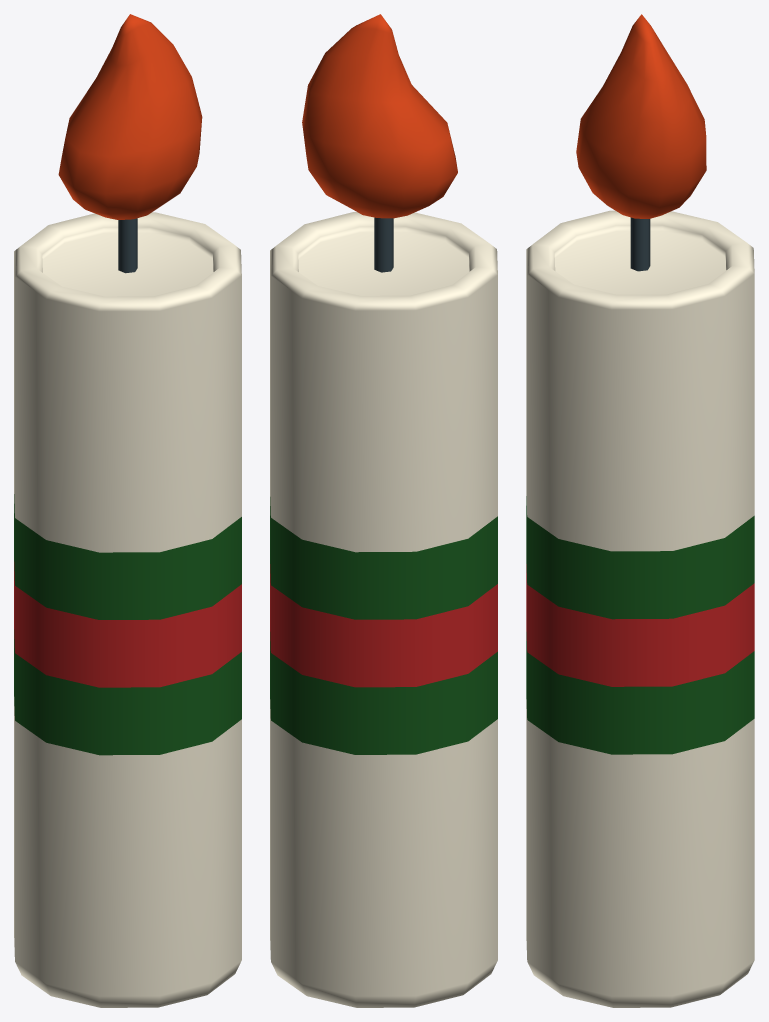
Rendered from candle.fbx.
3 renders of one model, left to right at view 1: azimuth 30°, elevation 25°; view 2: azimuth 150°, elevation 25°; view 3: azimuth 270°, elevation 25°, orthographic.
Visible parts, largest first — view 1: candle; view 2: candle; view 3: candle.
Boxes of the visible parts, x1,y1,x2,y2 form: candle: [14, 14, 241, 1007]; candle: [270, 14, 497, 1007]; candle: [526, 14, 754, 1007].
Size of the model in its own units: 6.07 by 28.05 by 6.07.
